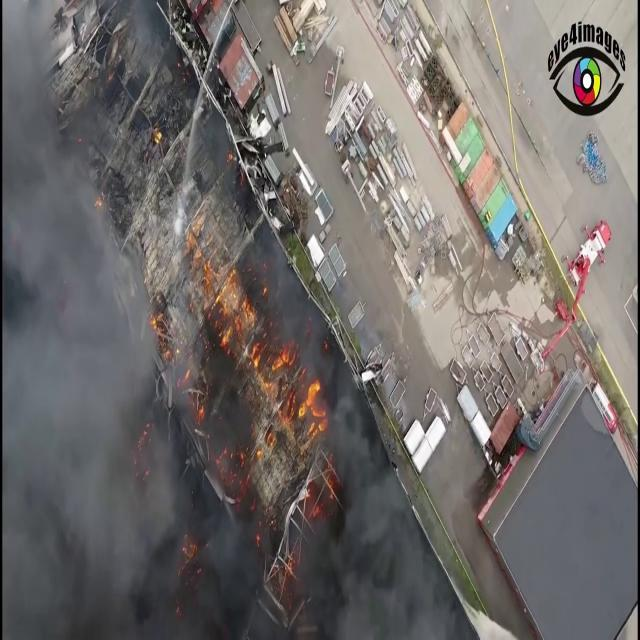Fire: (204, 266, 326, 450)
Smoke: (2, 32, 248, 618), (309, 385, 454, 638)
